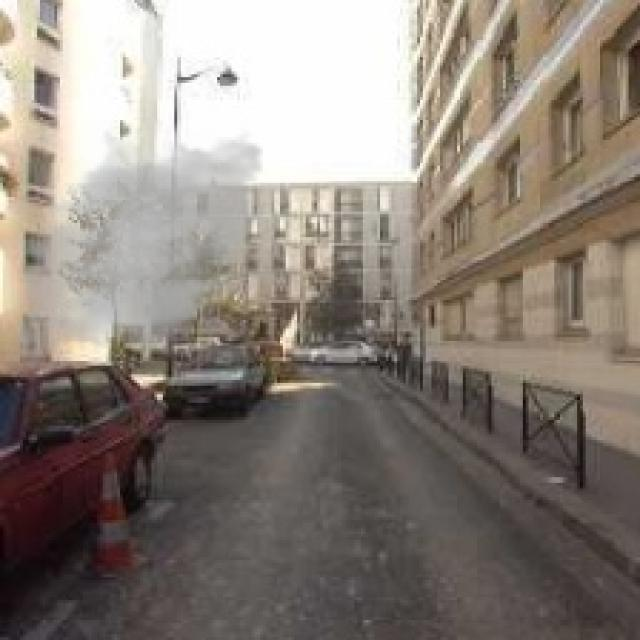Smoke: (6, 120, 274, 377)
